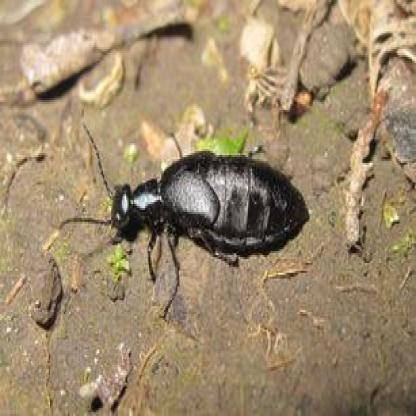beetle: (71, 120, 316, 272)
